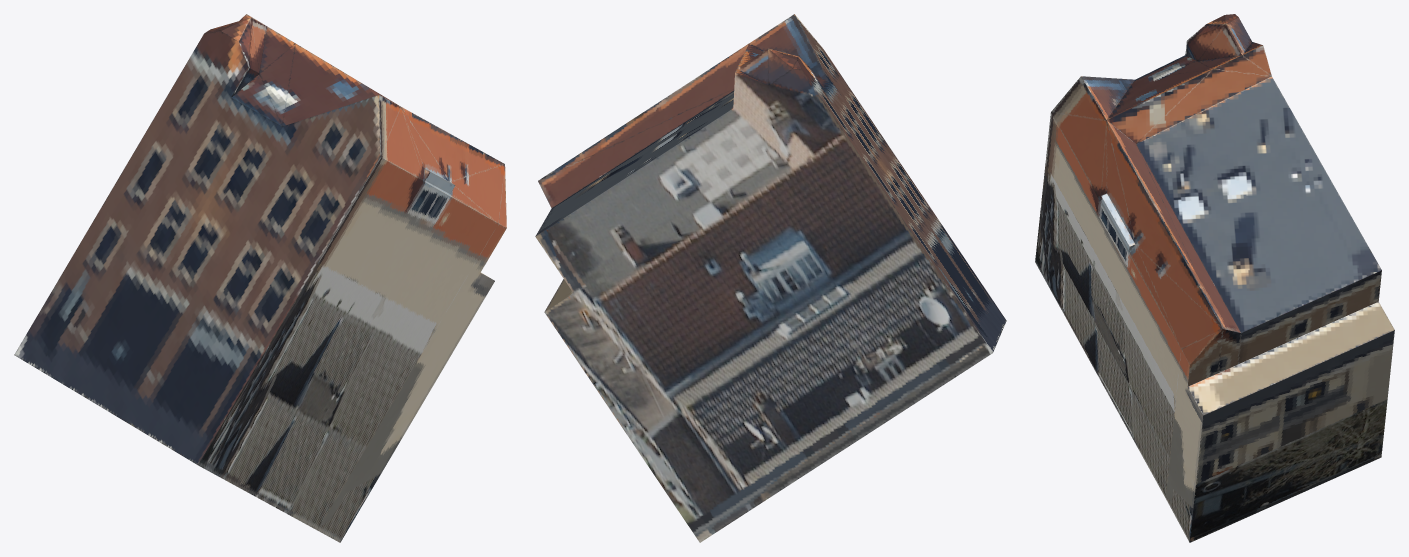
3 views of the same model, side by side, from view 1: azimuth 30°, elevation 25°; view 2: azimuth 150°, elevation 25°; view 3: azimuth 270°, elevation 25° (orthographic). The views are drawn at different scales.
Parts seen in each view (by area): view 1: BAG_0599100000656921 (×5); view 2: BAG_0599100000656921 (×3); view 3: BAG_0599100000656921 (×5).
Part boxes in pixels (x1,y1,x2,y2): BAG_0599100000656921 (×5): (14,14,506,542); BAG_0599100000656921 (×3): (535,14,1006,542); BAG_0599100000656921 (×5): (1035,15,1394,542).
Size of the model in its own units: 22.14 by 22.65 by 15.16.
Materials: 6 (6 with a texture image).
